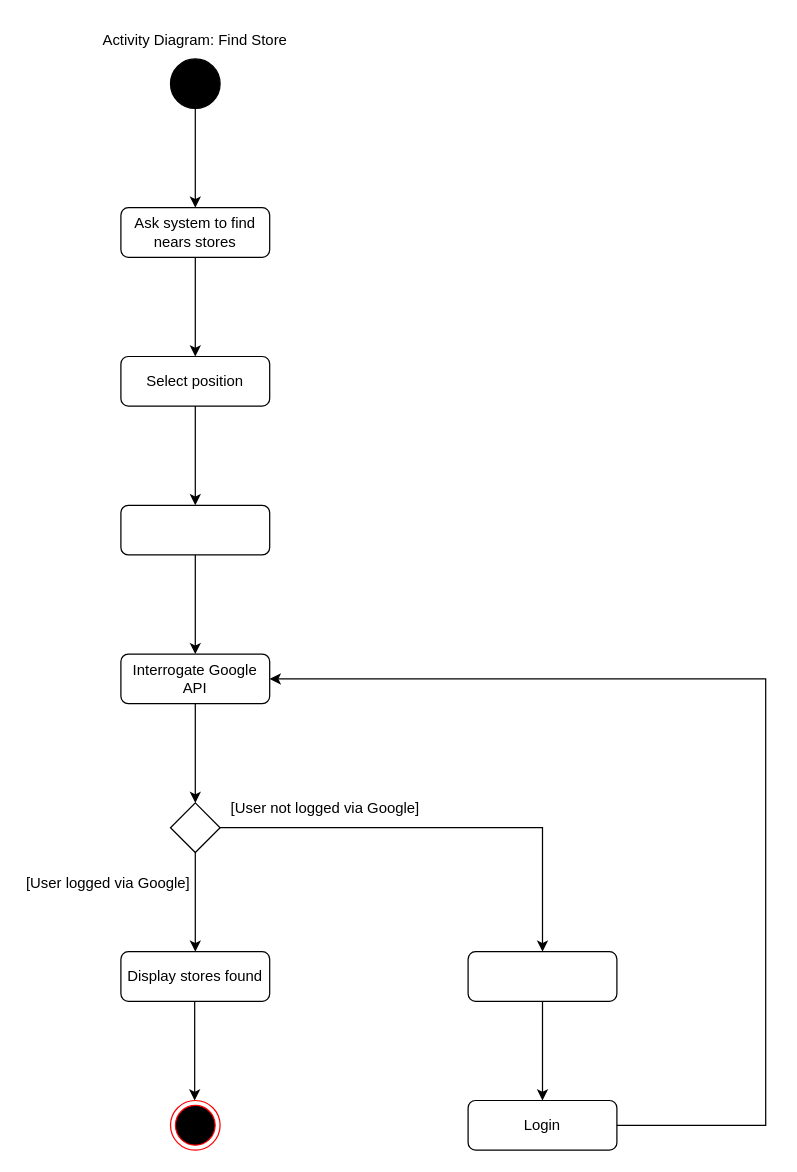
Image size: 797x1172. Some labels were removed from this diagram. Here are the shapes that lost their labels. From the top down, the centre of each, then its label:
At [195,529]: "Select radius".
At [542,975]: "Display Google login".
